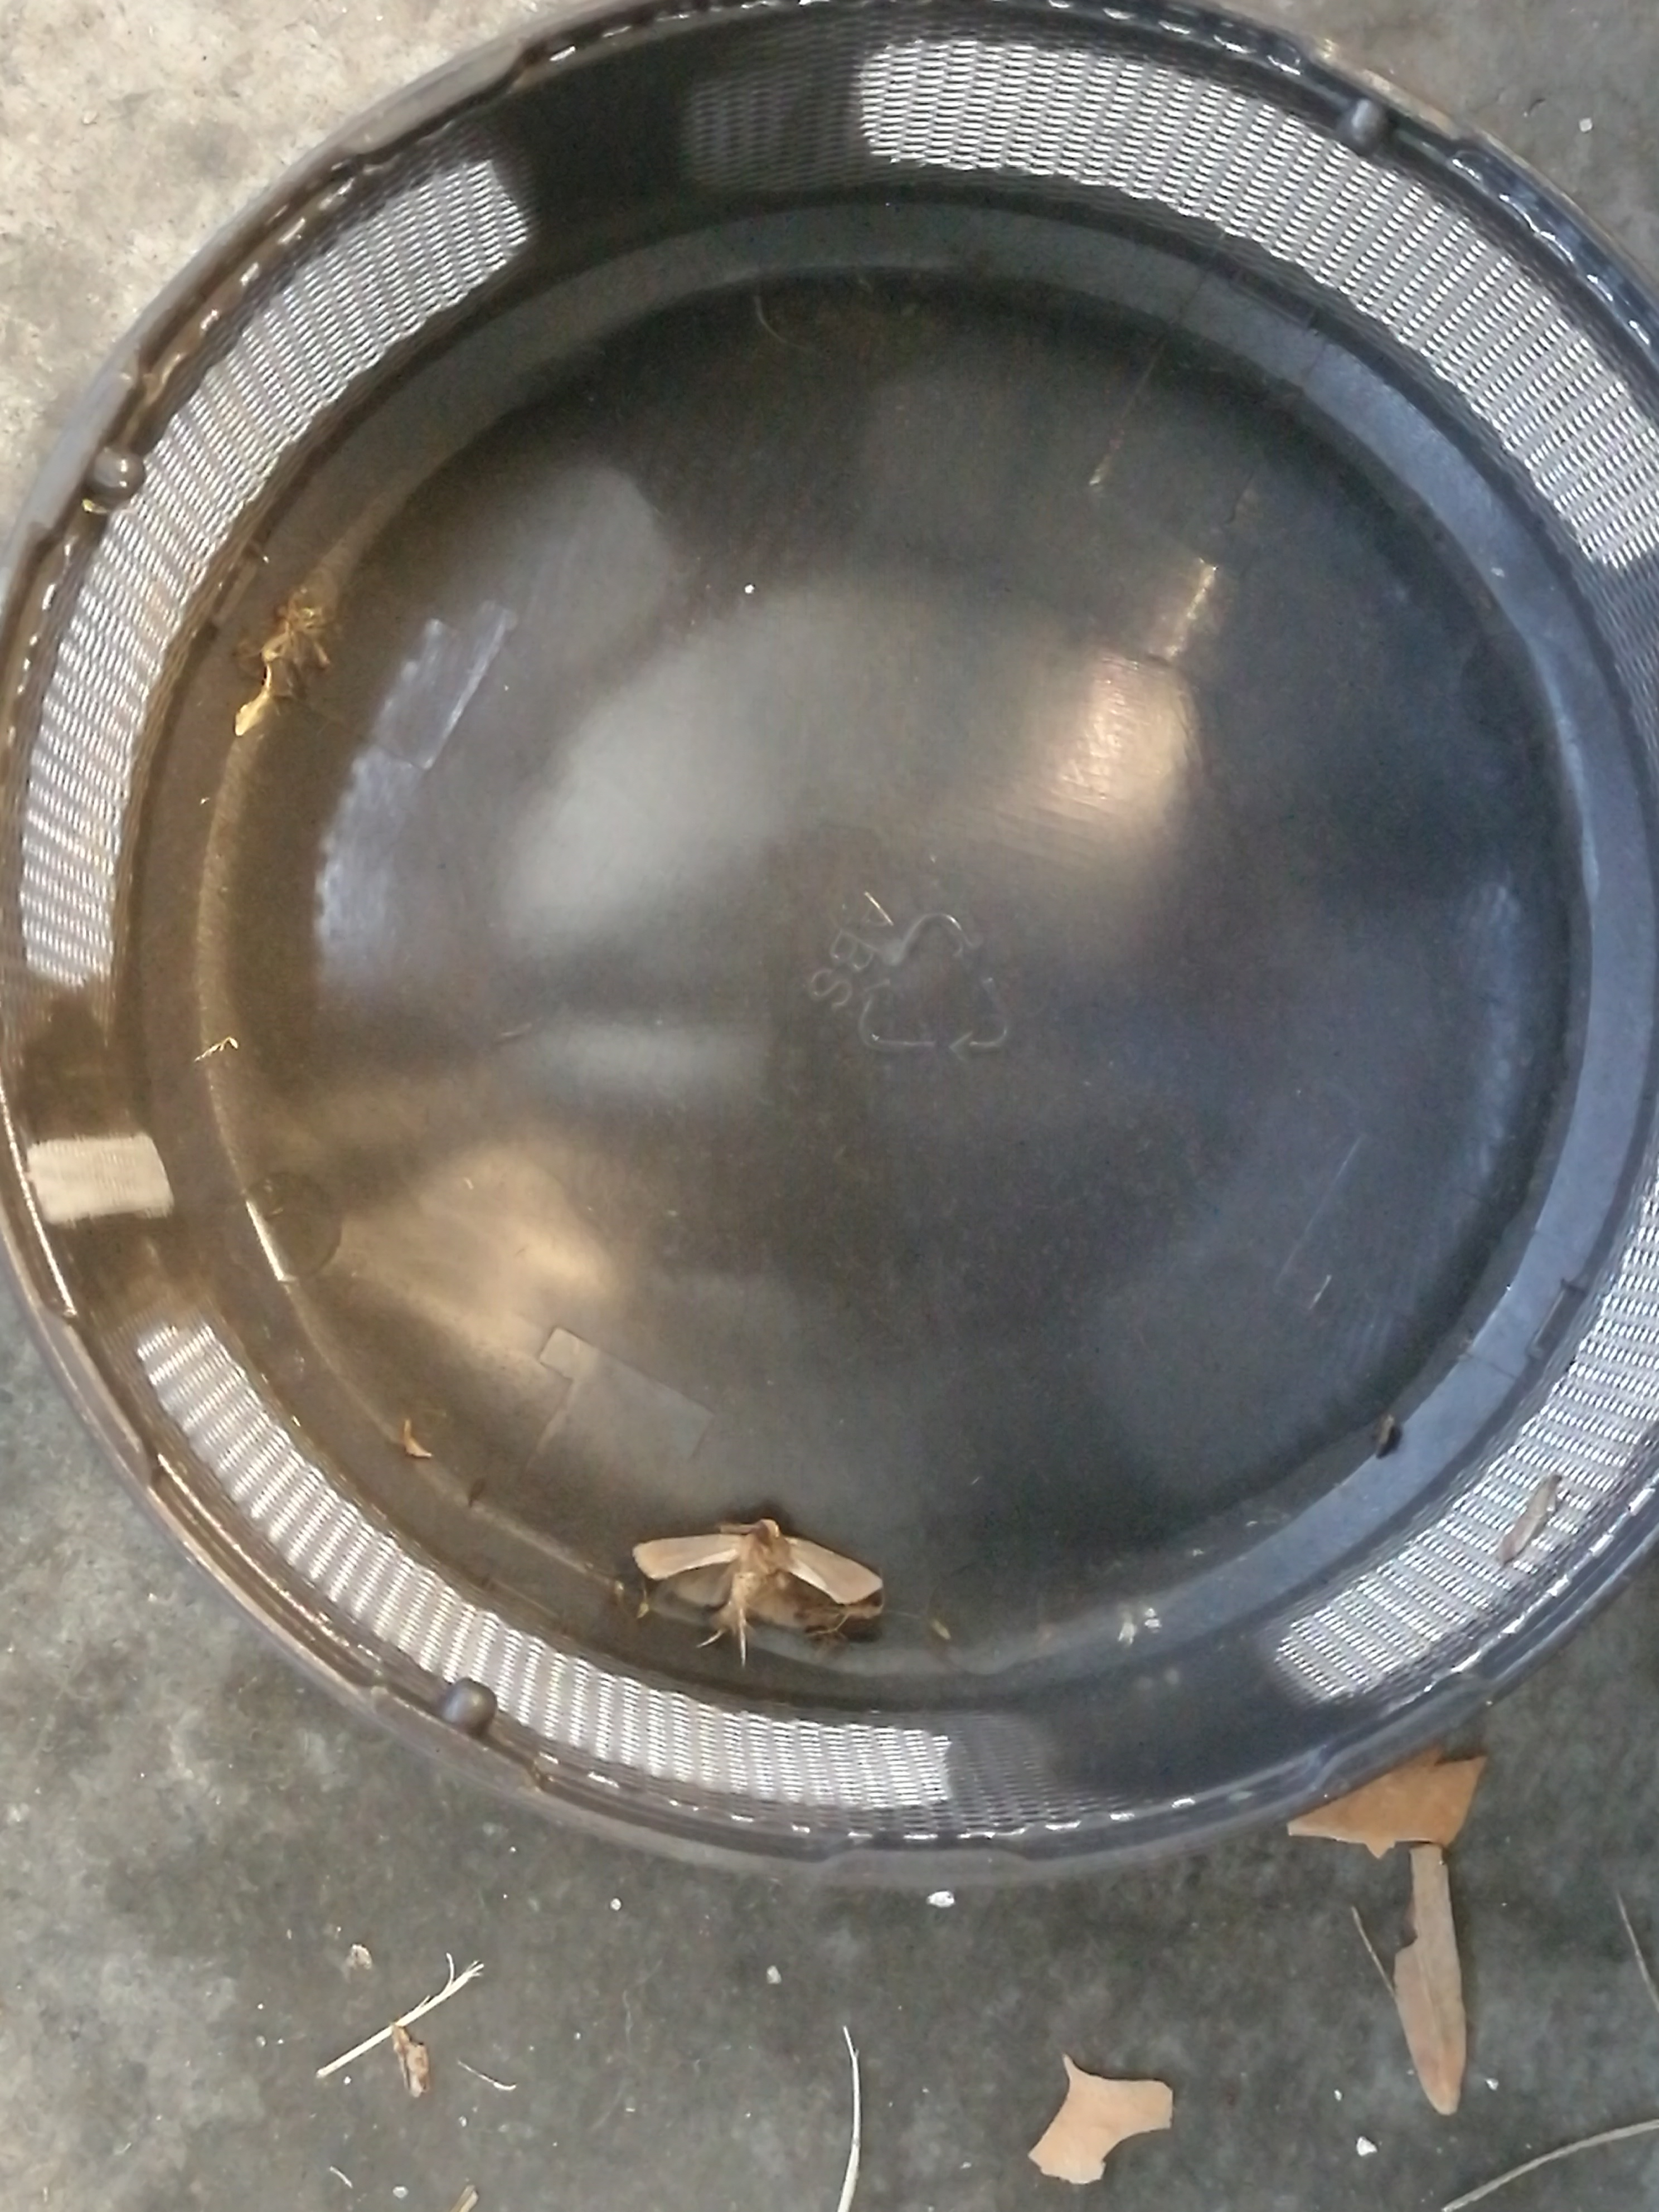beetle: (1502, 1472, 1561, 1561)
moth: (633, 1522, 882, 1634), (753, 1578, 882, 1629)
